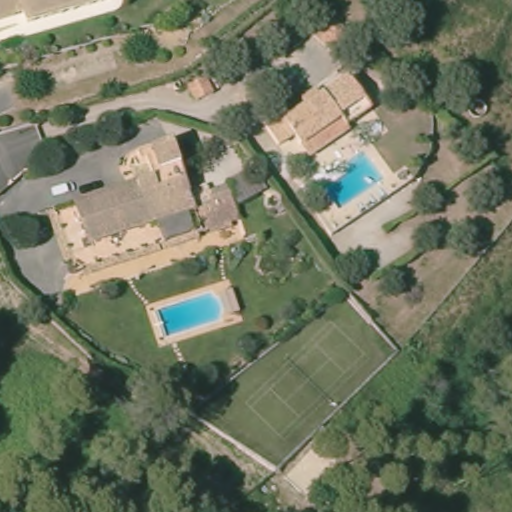pool: (315, 148, 383, 209), (149, 291, 228, 342)
